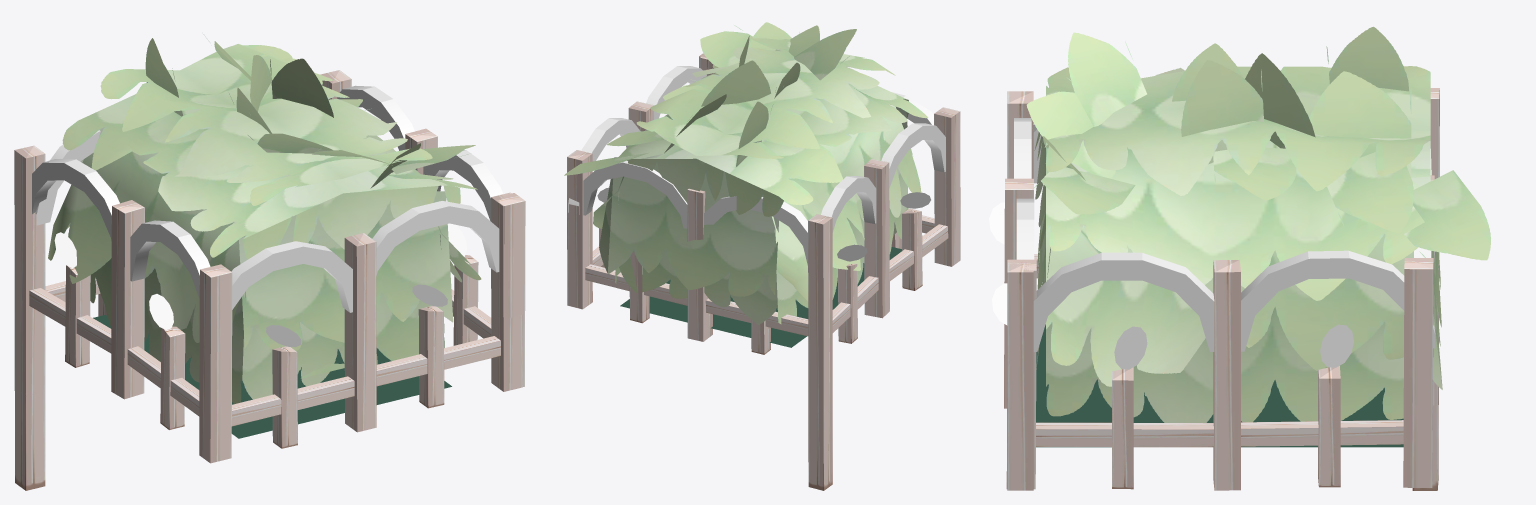
File: DecoHedgeVillageCorner.fbx
3 views of the same model, side by side, from view 1: azimuth 30°, elevation 25°; view 2: azimuth 150°, elevation 25°; view 3: azimuth 270°, elevation 25° (orthographic). The views are drawn at different scales.
Visible parts, largest first — view 1: DecoHedgeFarm, ParkFenceTile (16), ParkFenceTile (17), ParkFenceTile (18), ParkFenceTile (15), ParkFenceTileEnd (5), ParkFenceTile (10), DecoHedgeFarmShadow, ParkFenceTile (11), ParkFenceTile (14); view 2: DecoHedgeFarm, ParkFenceTile (17), ParkFenceTile (13), ParkFenceTile (18), ParkFenceTileEnd (5), ParkFenceTile (14), DecoHedgeFarmShadow, ParkFenceTile (11), ParkFenceTile (10), ParkFenceTile (16); view 3: DecoHedgeFarm, ParkFenceTile (10), ParkFenceTile (11), ParkFenceTile (13), DecoHedgeFarmShadow, ParkFenceTile (16), ParkFenceTile (15), ParkFenceTileEnd (5), ParkFenceTile (17).
Boxes of the visible parts, x1,y1,x2,y2 form: DecoHedgeFarm: [48, 34, 481, 403]; ParkFenceTile (16): [231, 233, 376, 448]; ParkFenceTile (17): [127, 220, 232, 463]; ParkFenceTile (18): [29, 159, 144, 399]; ParkFenceTile (15): [372, 192, 522, 408]; ParkFenceTileEnd (5): [14, 145, 45, 490]; ParkFenceTile (10): [423, 150, 525, 386]; DecoHedgeFarmShadow: [93, 315, 451, 438]; ParkFenceTile (11): [337, 85, 437, 174]; ParkFenceTile (14): [35, 130, 107, 316]; DecoHedgeFarm: [564, 22, 928, 324]; ParkFenceTile (17): [881, 107, 960, 290]; ParkFenceTile (13): [567, 150, 687, 323]; ParkFenceTile (18): [821, 159, 889, 343]; ParkFenceTileEnd (5): [808, 214, 832, 490]; ParkFenceTile (14): [687, 188, 808, 354]; DecoHedgeFarmShadow: [620, 247, 901, 347]; ParkFenceTile (11): [568, 101, 654, 270]; ParkFenceTile (10): [646, 53, 706, 119]; ParkFenceTile (16): [891, 92, 934, 248]; DecoHedgeFarm: [1026, 26, 1490, 422]; ParkFenceTile (10): [1007, 252, 1214, 490]; ParkFenceTile (11): [1213, 250, 1435, 490]; ParkFenceTile (13): [1403, 247, 1433, 487]; DecoHedgeFarmShadow: [1036, 324, 1403, 447]; ParkFenceTile (16): [989, 118, 1033, 408]; ParkFenceTile (15): [992, 198, 1036, 489]; ParkFenceTileEnd (5): [1412, 88, 1439, 490]; ParkFenceTile (17): [1007, 91, 1042, 278].
Size of the model in its own units: 1.61 by 2.14 by 1.88.
Materials: 3 (2 with a texture image).
